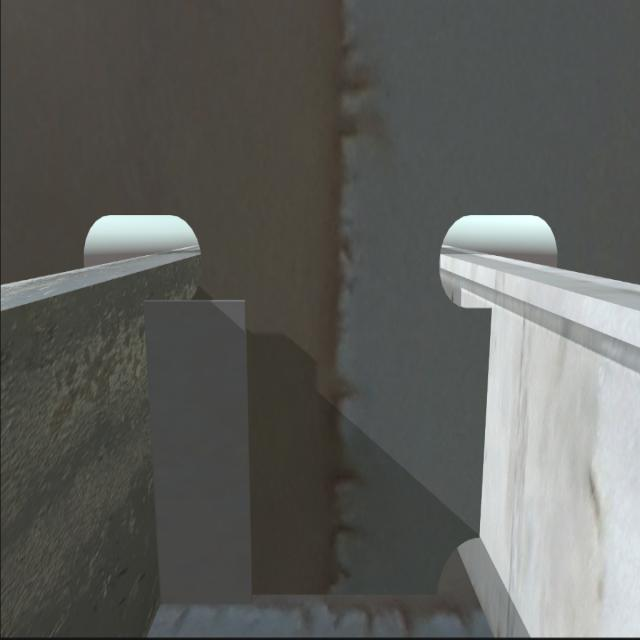fillet_hole: (432, 534, 481, 598)
fillet_yong_jeop_jang: (148, 583, 448, 607)
longi_yong_jeop_jang: (139, 298, 166, 612), (473, 303, 493, 533)
plate_CP01: (141, 302, 255, 606)
